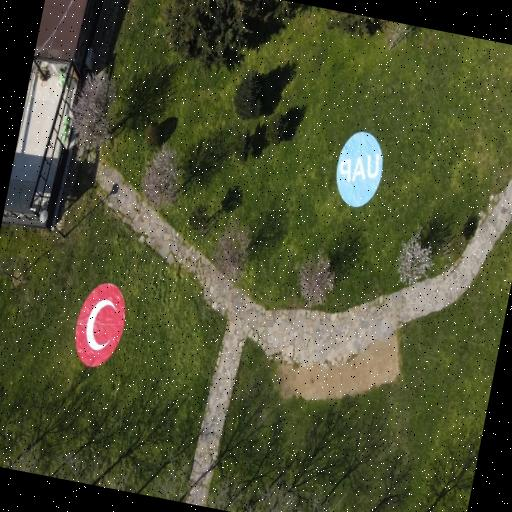UAI: (75, 284, 125, 366)
UAP: (337, 132, 383, 207)
